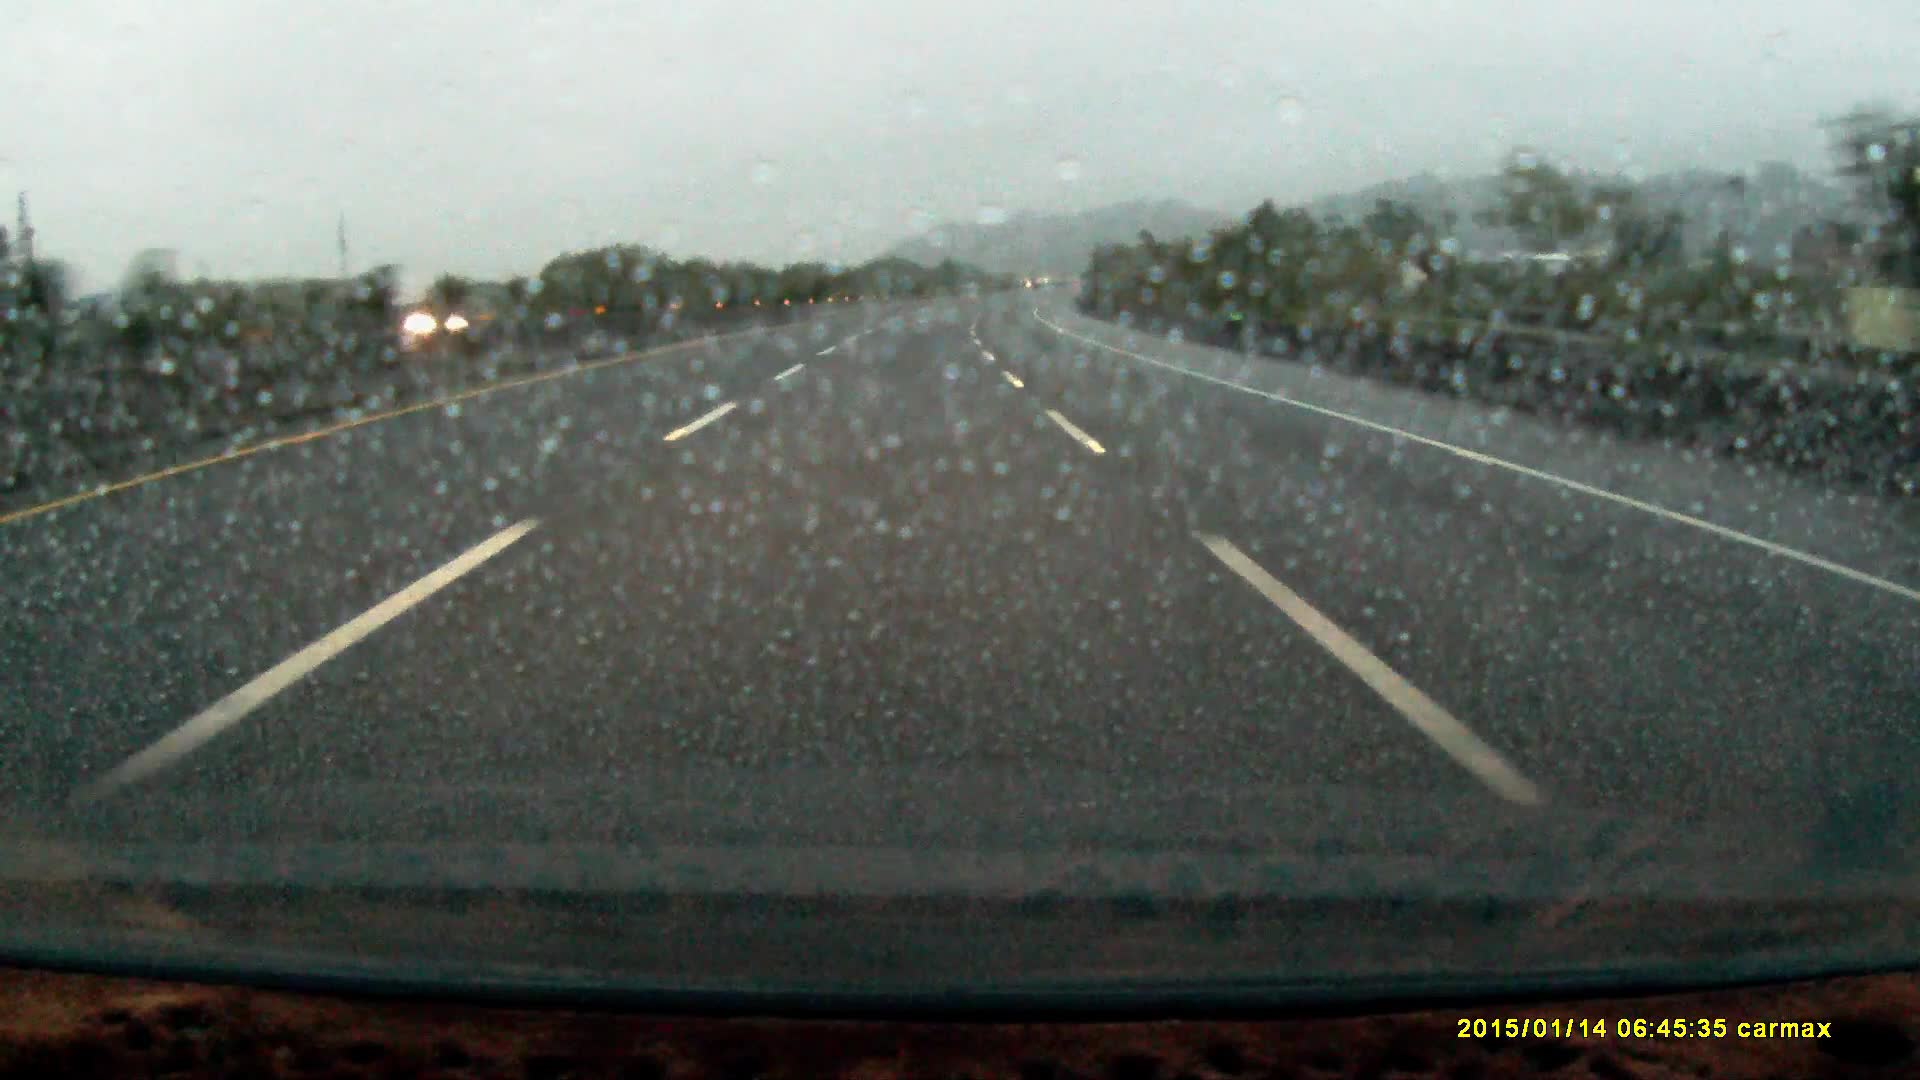vehicle: (400, 297, 498, 338)
